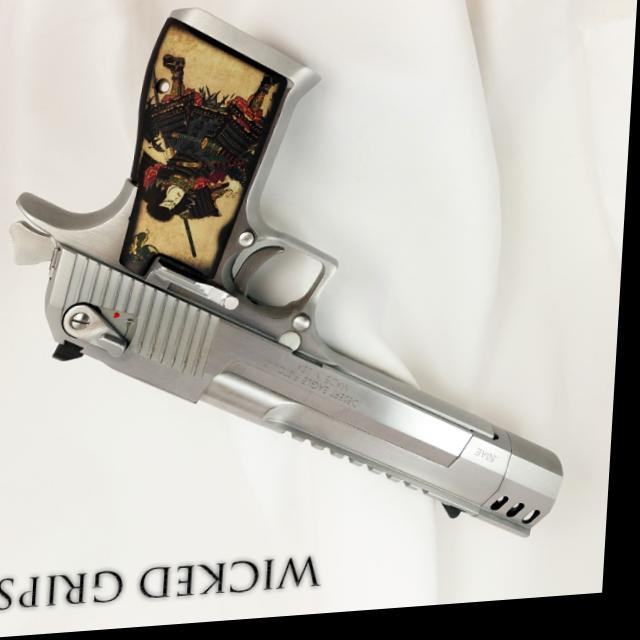handgun: (0, 0, 596, 585)
